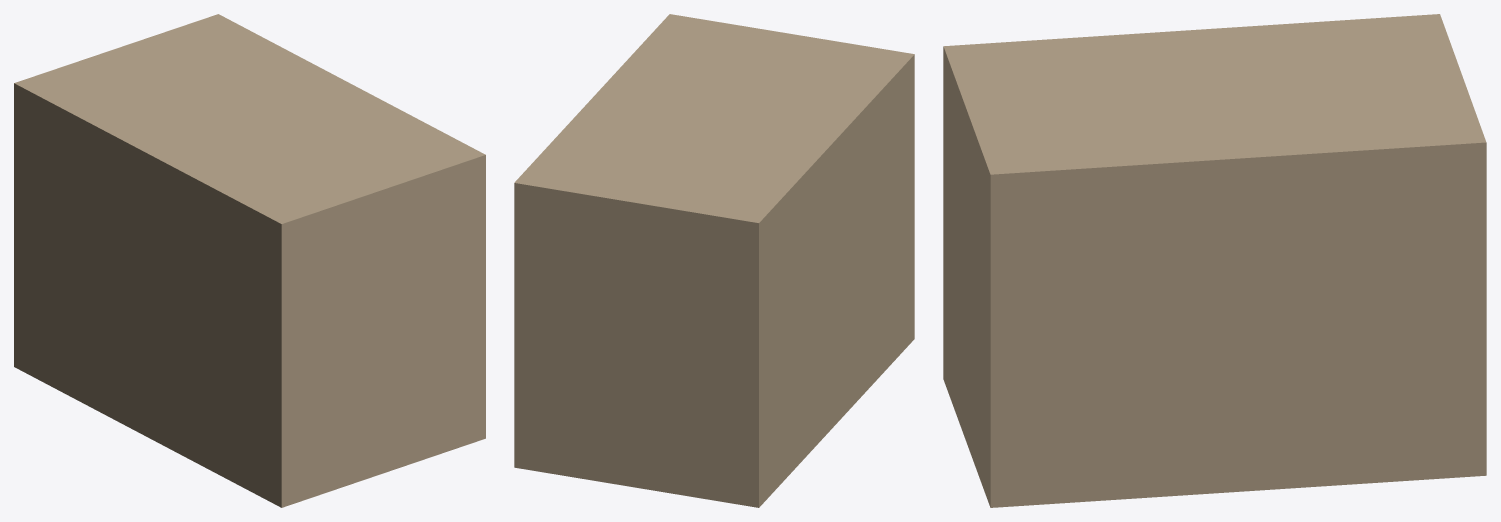
The model's file is bld_107639535.dae.
The picture shows the model from 3 angles, left to right: view 1: azimuth 30°, elevation 25°; view 2: azimuth 150°, elevation 25°; view 3: azimuth 270°, elevation 25°; orthographic projection. The views are drawn at different scales.
Parts seen in each view (by area): view 1: bld_107639535; view 2: bld_107639535; view 3: bld_107639535.
Boxes of the visible parts, left/top/right/bottom form: bld_107639535: left=14, top=14, right=485, bottom=507; bld_107639535: left=514, top=14, right=914, bottom=507; bld_107639535: left=943, top=14, right=1486, bottom=507.
Size of the model in its own units: 8.27 by 11.81 by 8.
